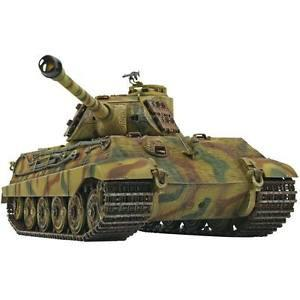Battle Tank: (1, 49, 300, 243)
